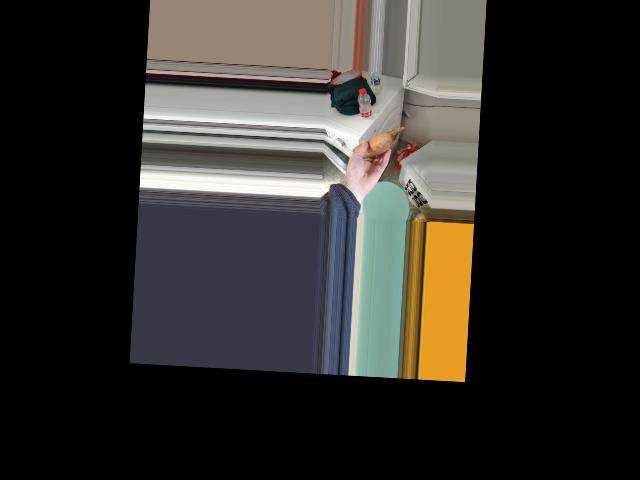sweet_potato: (356, 130, 390, 164)
